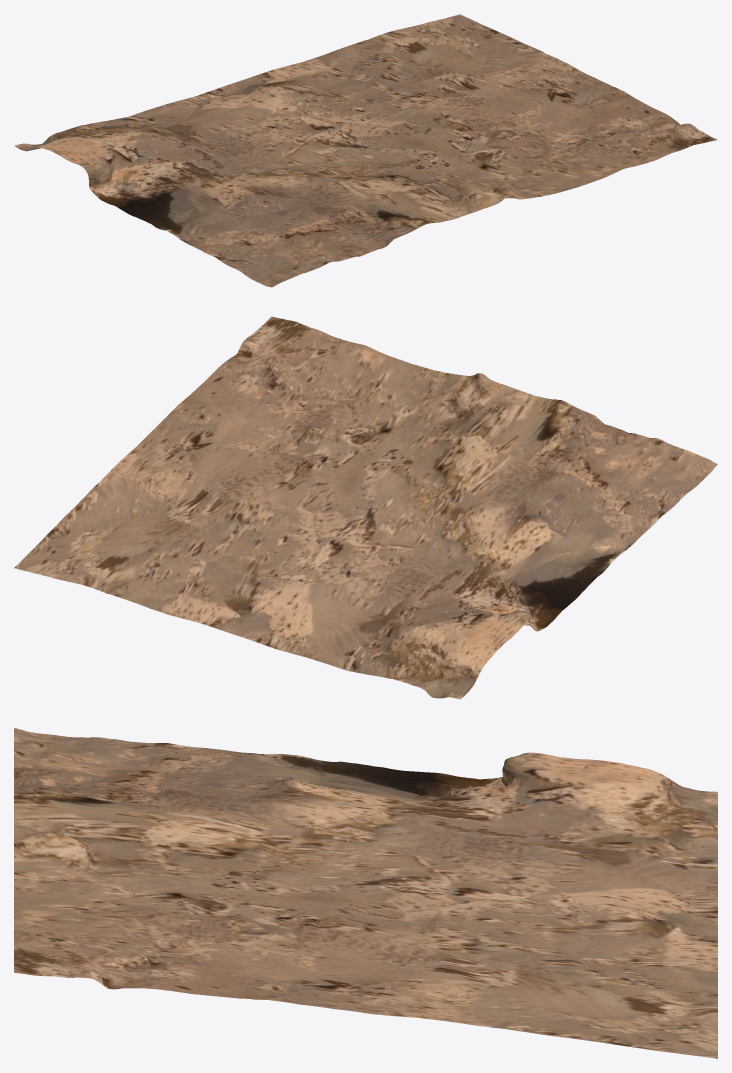
The picture shows the model from 3 angles, top to bottom: view 1: azimuth 30°, elevation 25°; view 2: azimuth 150°, elevation 25°; view 3: azimuth 270°, elevation 25°; orthographic projection. The views are drawn at different scales.
Bounding box in the file's own units: 4.18 × 0.8148 × 4.18.
Materials: 2 (2 with a texture image).
